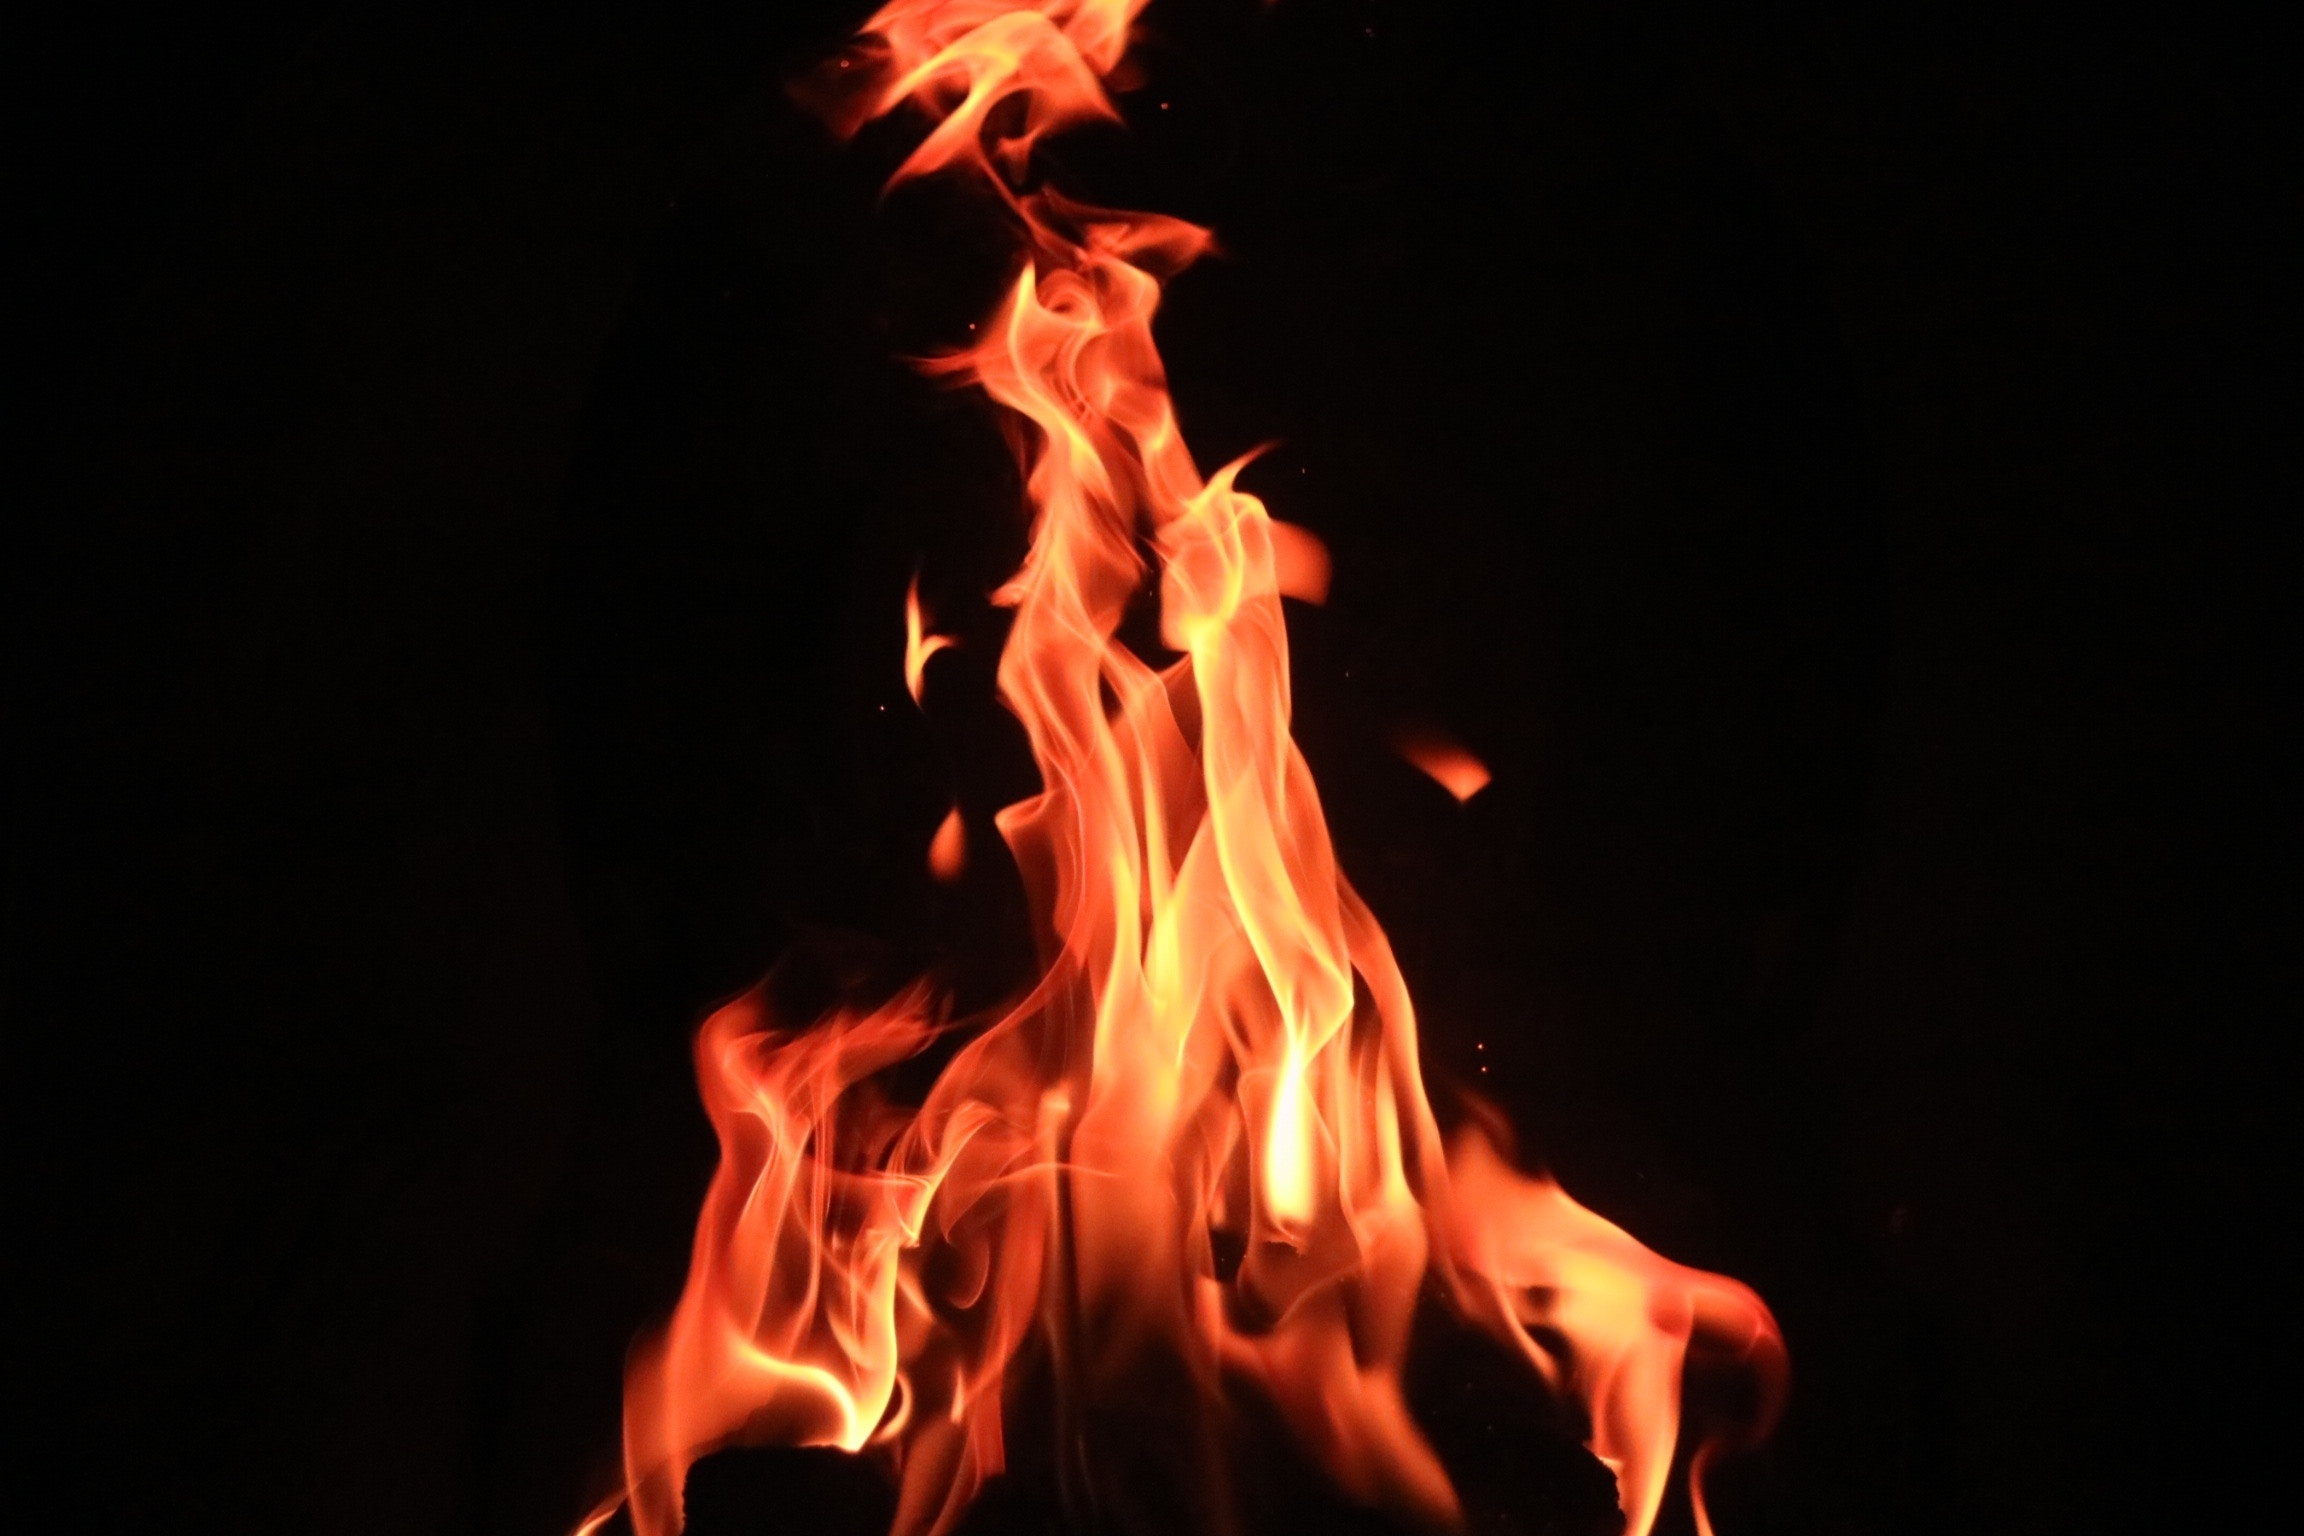fire: (617, 96, 1771, 1514)
